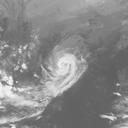cyclone: (40, 45, 87, 95)
